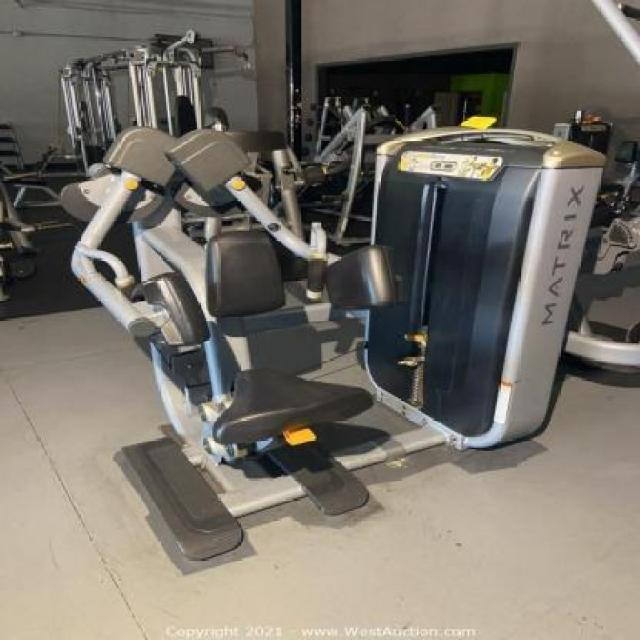lateral raises machine: (65, 128, 603, 563)
